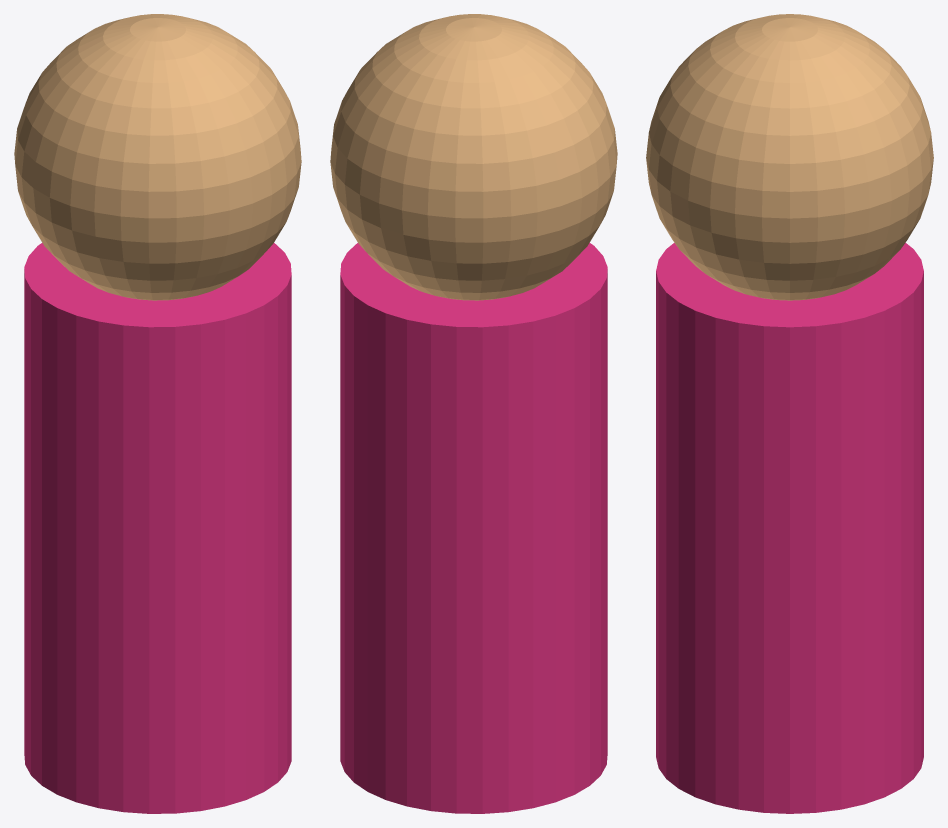
The model's file is npc.fbx.
3 renders of one model, left to right at view 1: azimuth 30°, elevation 25°; view 2: azimuth 150°, elevation 25°; view 3: azimuth 270°, elevation 25°, orthographic.
Parts seen in each view (by area): view 1: Cylinder; view 2: Cylinder; view 3: Cylinder.
Boxes of the visible parts, x1,y1,x2,y2 form: Cylinder: [14, 14, 301, 813]; Cylinder: [330, 14, 617, 813]; Cylinder: [646, 14, 933, 813].
Bounding box in the file's own units: 200 × 560 × 200.
